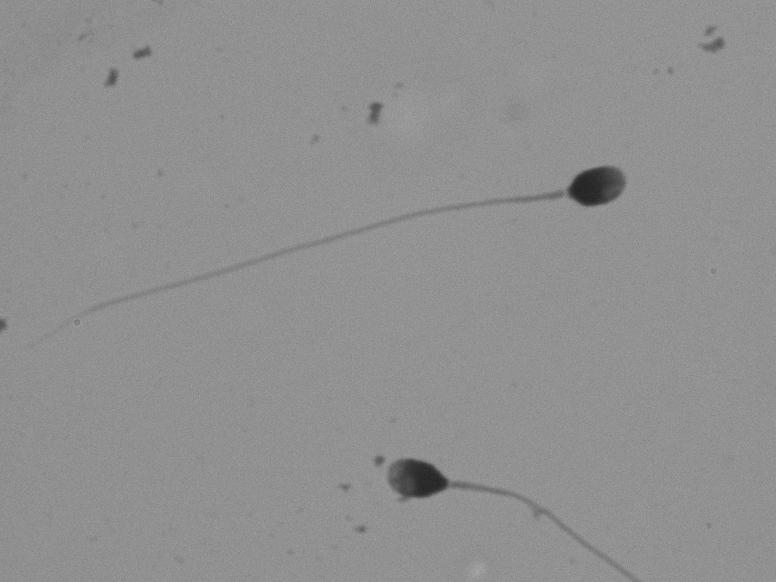Normal: (30, 133, 671, 362)
